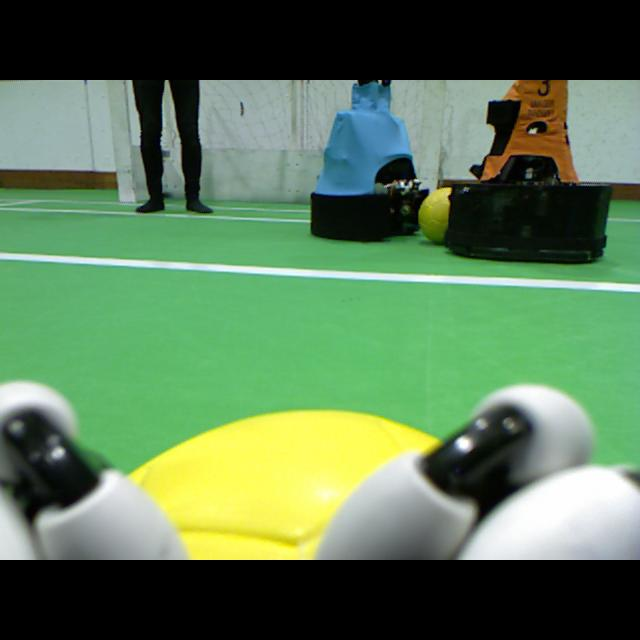ball: (127, 412, 440, 559), (420, 189, 451, 245)
goal: (417, 80, 444, 190), (109, 80, 133, 202)
robot: (446, 81, 610, 264)
